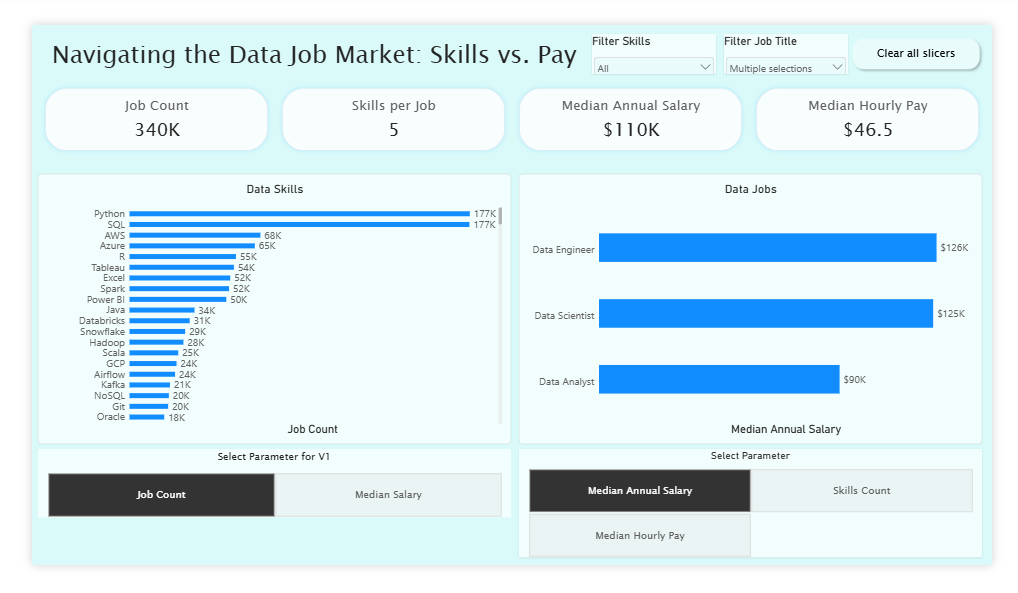

What the dashboard file says about the page in this screenshot:
{"tool":"powerbi","page":{"name":"Data Dashboard","canvas":[1920,1080],"ordinal":0},"visuals":[{"type":"textbox","box":[10,0,280,280],"z":0},{"type":"textbox","box":[10,290,280,280],"z":1},{"type":"textbox","box":[40,22,1190,94],"z":2},{"type":"cardVisual","fields":{"Data":["_Measures.Job Count","_Measures.Skills per Job","_Measures.Median Salary","_Measures.Median Hourly Pay"]},"box":[15.5,115.2,1889,146.2],"z":3},{"type":"clusteredBarChart","title":"Data Jobs","fields":{"Category":["job_postings_fact.job_title_short"],"Y":["_Measures.Skills per Job"]},"box":[974.4,299,925.5,540.4],"z":5},{"type":"clusteredBarChart","title":"Data Skills","fields":{"Category":["skills_dim.Skills"],"Y":["_Measures.Job Count"]},"box":[11.1,299,945.6,540.3],"z":6},{"type":"slicer","title":"Select Parameter","fields":{"Values":["Select Parameter.Select Parameter"]},"box":[974.4,848.2,925.7,217],"z":7},{"type":"slicer","title":"Select Parameter for V1","fields":{"Values":["Select Parameter V1.Select Parameter V1"]},"box":[11.1,848.2,945.6,137.3],"z":8},{"type":"slicer","title":"Filter Job Title","fields":{"Values":["job_postings_fact.job_title_short"]},"box":[1384,18,248,80],"z":9},{"type":"actionButton","box":[1632.1,17.7,272.4,79.7],"z":10},{"type":"slicer","title":"Filter Skills","fields":{"Values":["skills_dim.Skills"]},"box":[1120,18,248,80],"z":11}]}

Visuals, with their boxes on the page's 1920x1080 design canvas (x1, y1, x2, y2). These are canvas units, not pixel positions in the 1018x593 screenshot, which may show the page scaled, cropped or inside an application window:
textbox: {"left": 10, "top": 0, "right": 290, "bottom": 280}
textbox: {"left": 10, "top": 290, "right": 290, "bottom": 570}
textbox: {"left": 40, "top": 22, "right": 1230, "bottom": 116}
cardVisual - _Measures.Job Count x _Measures.Skills per Job: {"left": 16, "top": 115, "right": 1904, "bottom": 261}
"Data Jobs" clusteredBarChart: {"left": 974, "top": 299, "right": 1900, "bottom": 839}
"Data Skills" clusteredBarChart: {"left": 11, "top": 299, "right": 957, "bottom": 839}
"Select Parameter" slicer: {"left": 974, "top": 848, "right": 1900, "bottom": 1065}
"Select Parameter for V1" slicer: {"left": 11, "top": 848, "right": 957, "bottom": 986}
"Filter Job Title" slicer: {"left": 1384, "top": 18, "right": 1632, "bottom": 98}
actionButton: {"left": 1632, "top": 18, "right": 1904, "bottom": 97}
"Filter Skills" slicer: {"left": 1120, "top": 18, "right": 1368, "bottom": 98}
